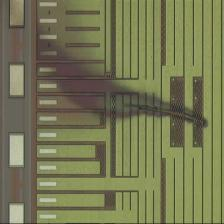PARTICLE: (127, 100, 209, 131)
